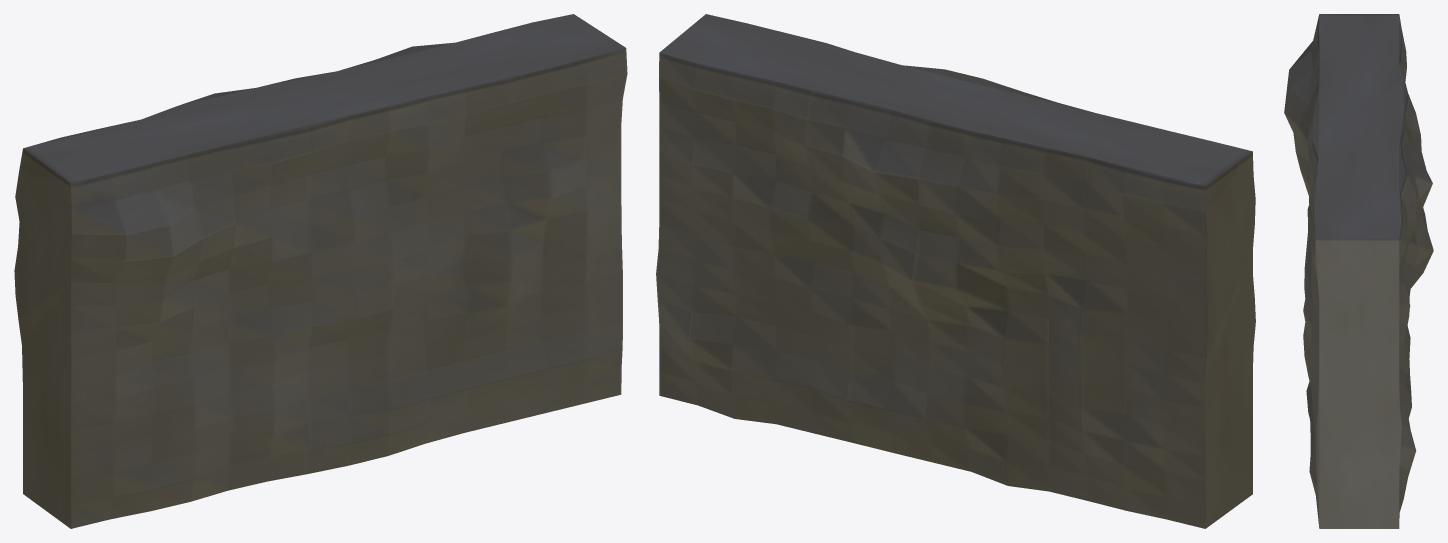
Rendered from caveWallDark.glb.
The picture shows the model from 3 angles, left to right: view 1: azimuth 30°, elevation 25°; view 2: azimuth 150°, elevation 25°; view 3: azimuth 270°, elevation 25°; orthographic projection. The views are drawn at different scales.
Visible parts, largest first — view 1: Cube; view 2: Cube; view 3: Cube.
Boxes of the visible parts, bbox=[...] form: Cube: bbox=[14, 14, 627, 528]; Cube: bbox=[656, 14, 1255, 528]; Cube: bbox=[1284, 14, 1433, 528].
Bounding box in the file's own units: 10.16 × 6.11 × 2.81.
1 material, 1 textured.
